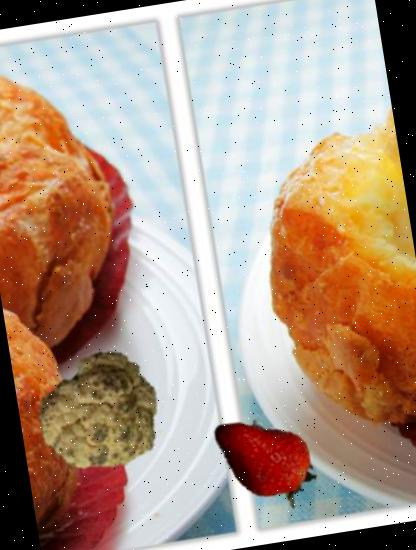Cauliflower: (26, 341, 170, 485)
Strawberry: (210, 408, 324, 522)
